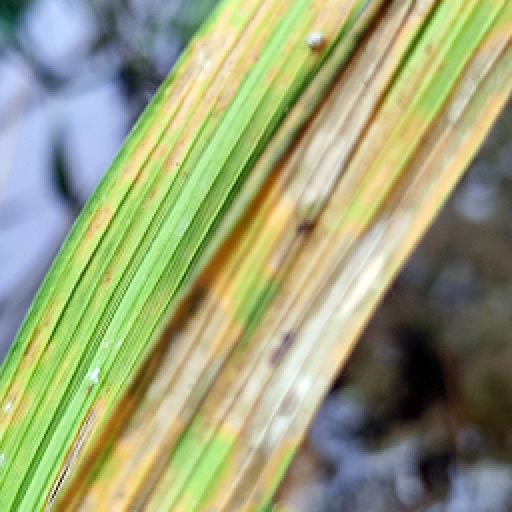Sheath Blight: (4, 0, 512, 502)
